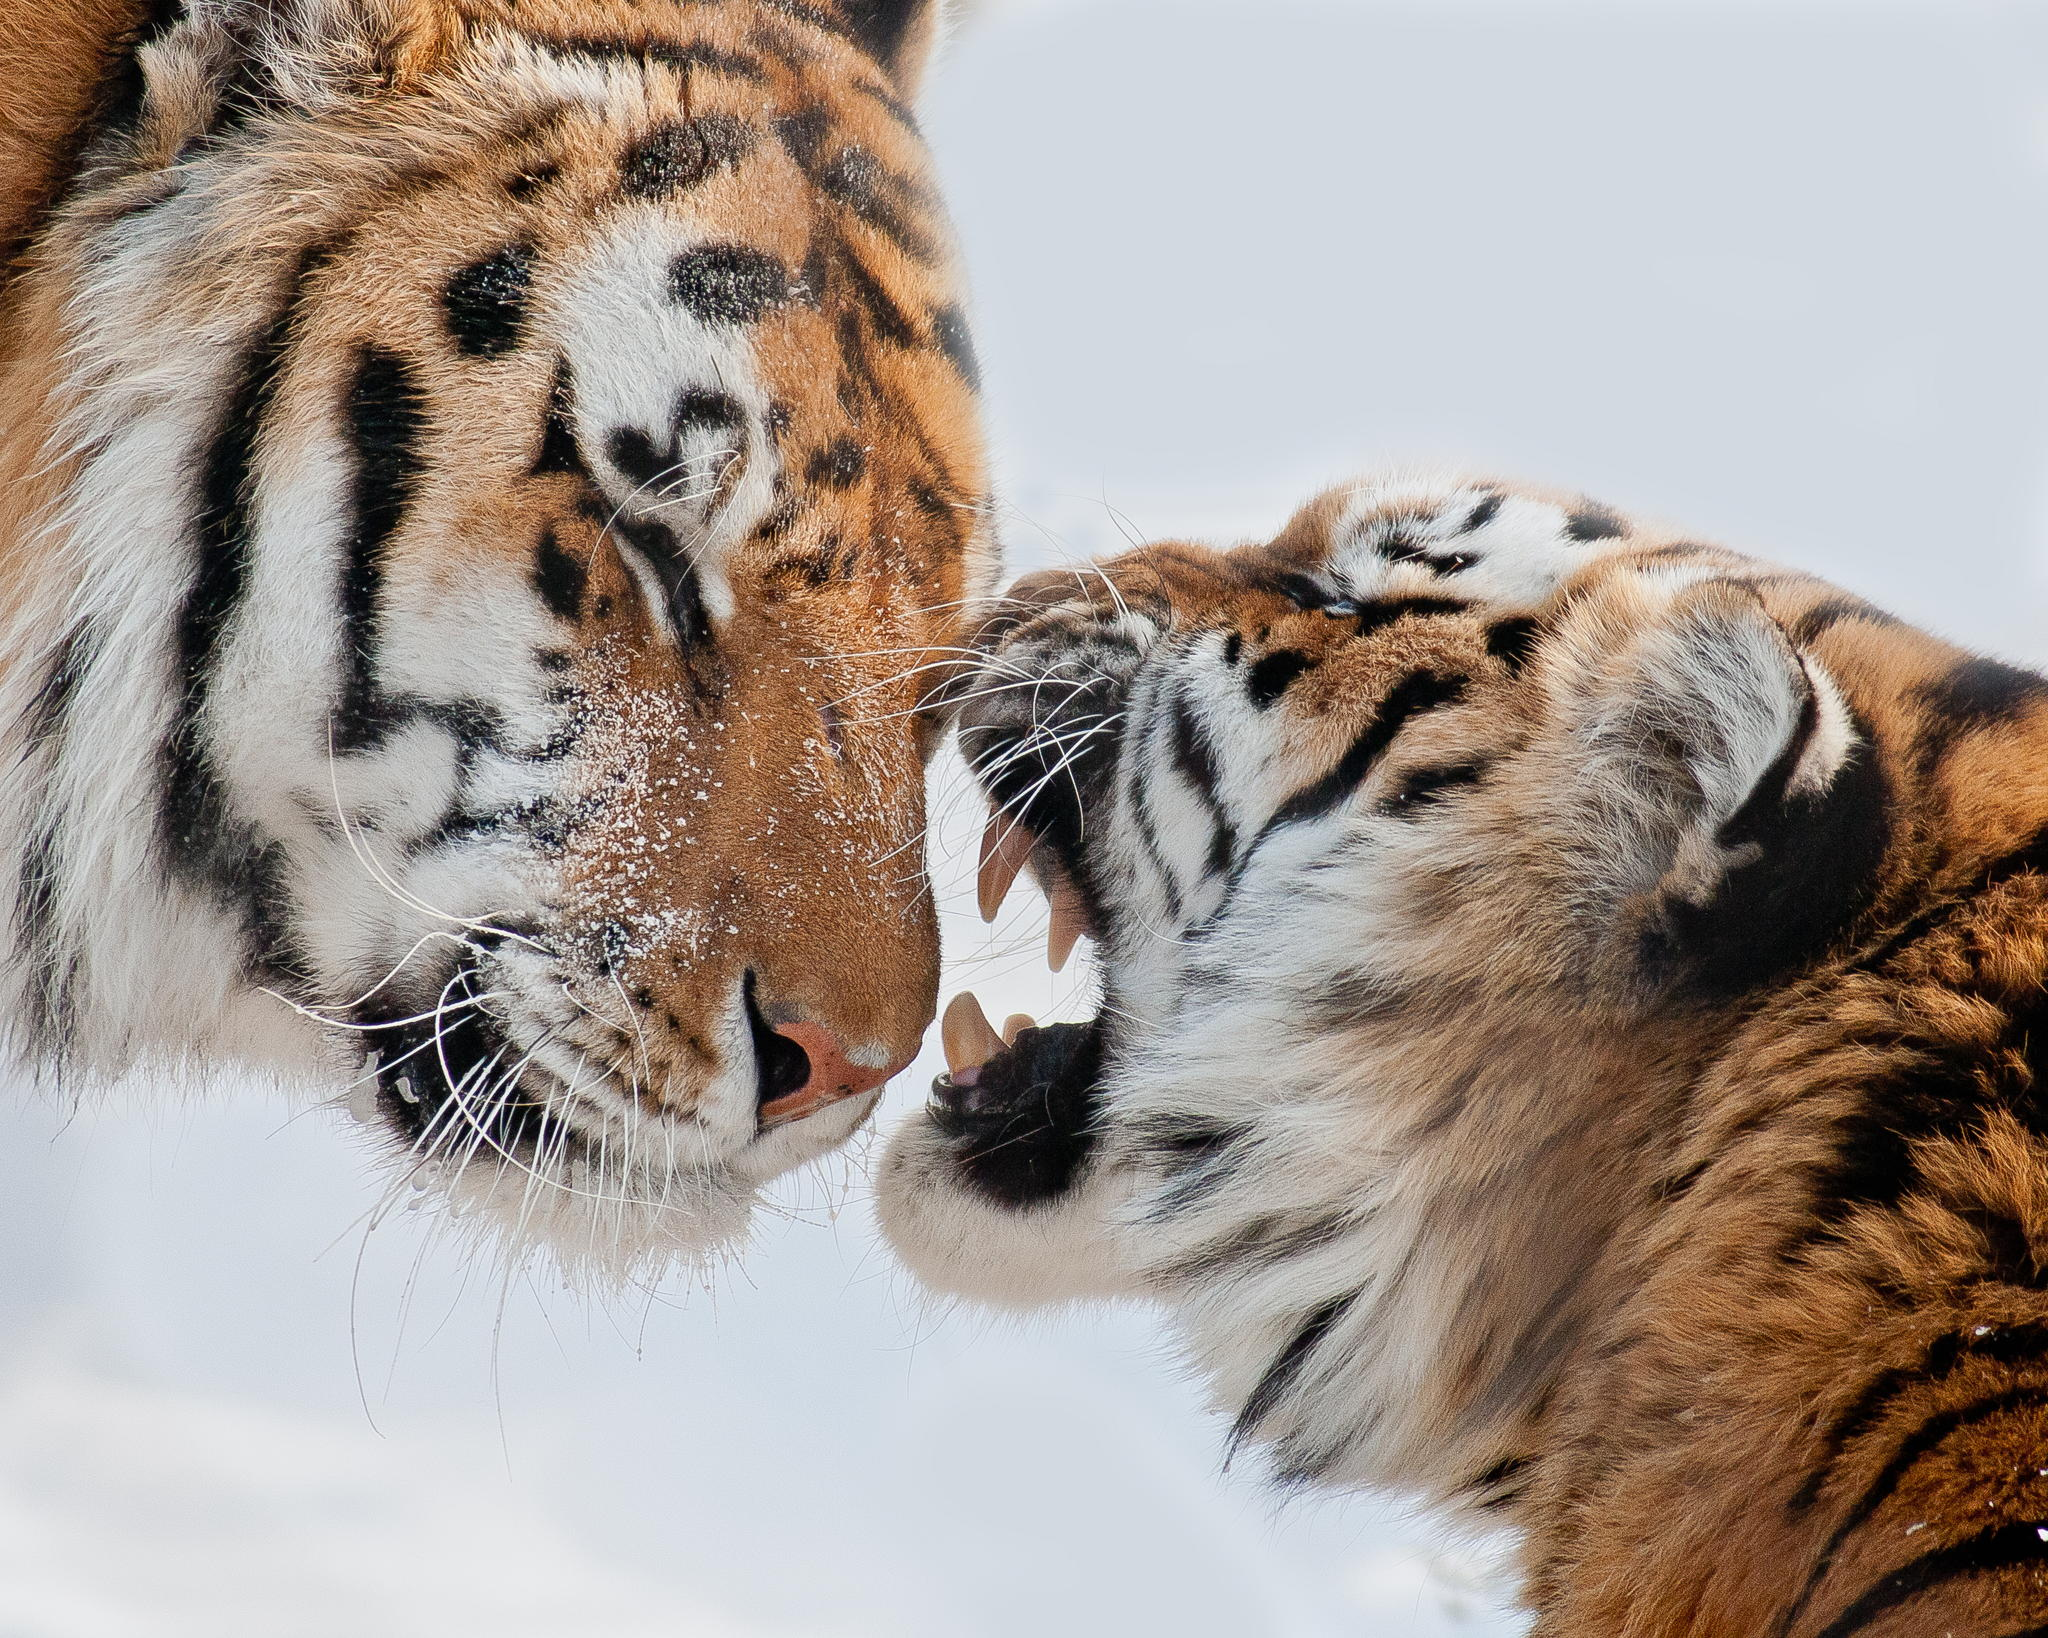tiger: (37, 27, 1021, 1309), (995, 426, 1978, 1521)
